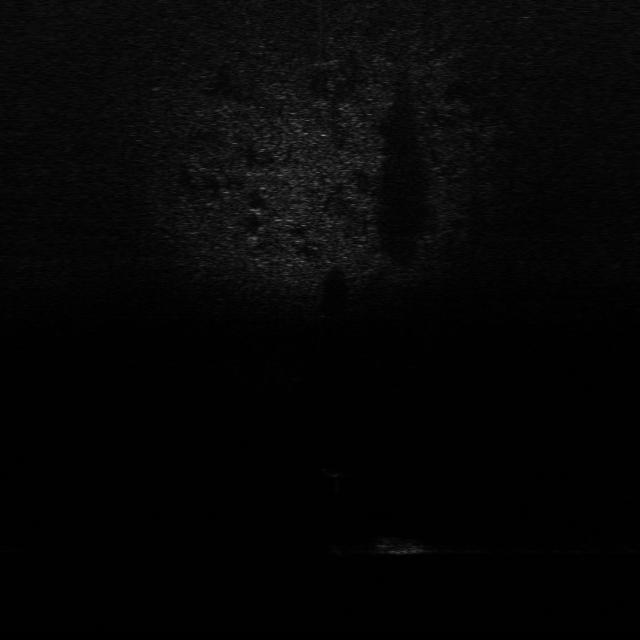ball: (320, 454, 348, 479)
metal bucket: (364, 531, 434, 559)
